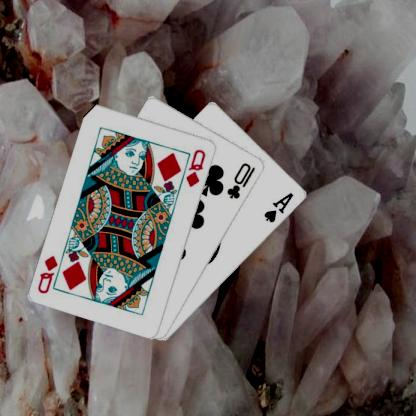10C: (226, 160, 259, 200)
AS: (263, 190, 297, 224)
QD: (37, 252, 61, 295), (185, 146, 209, 188)
